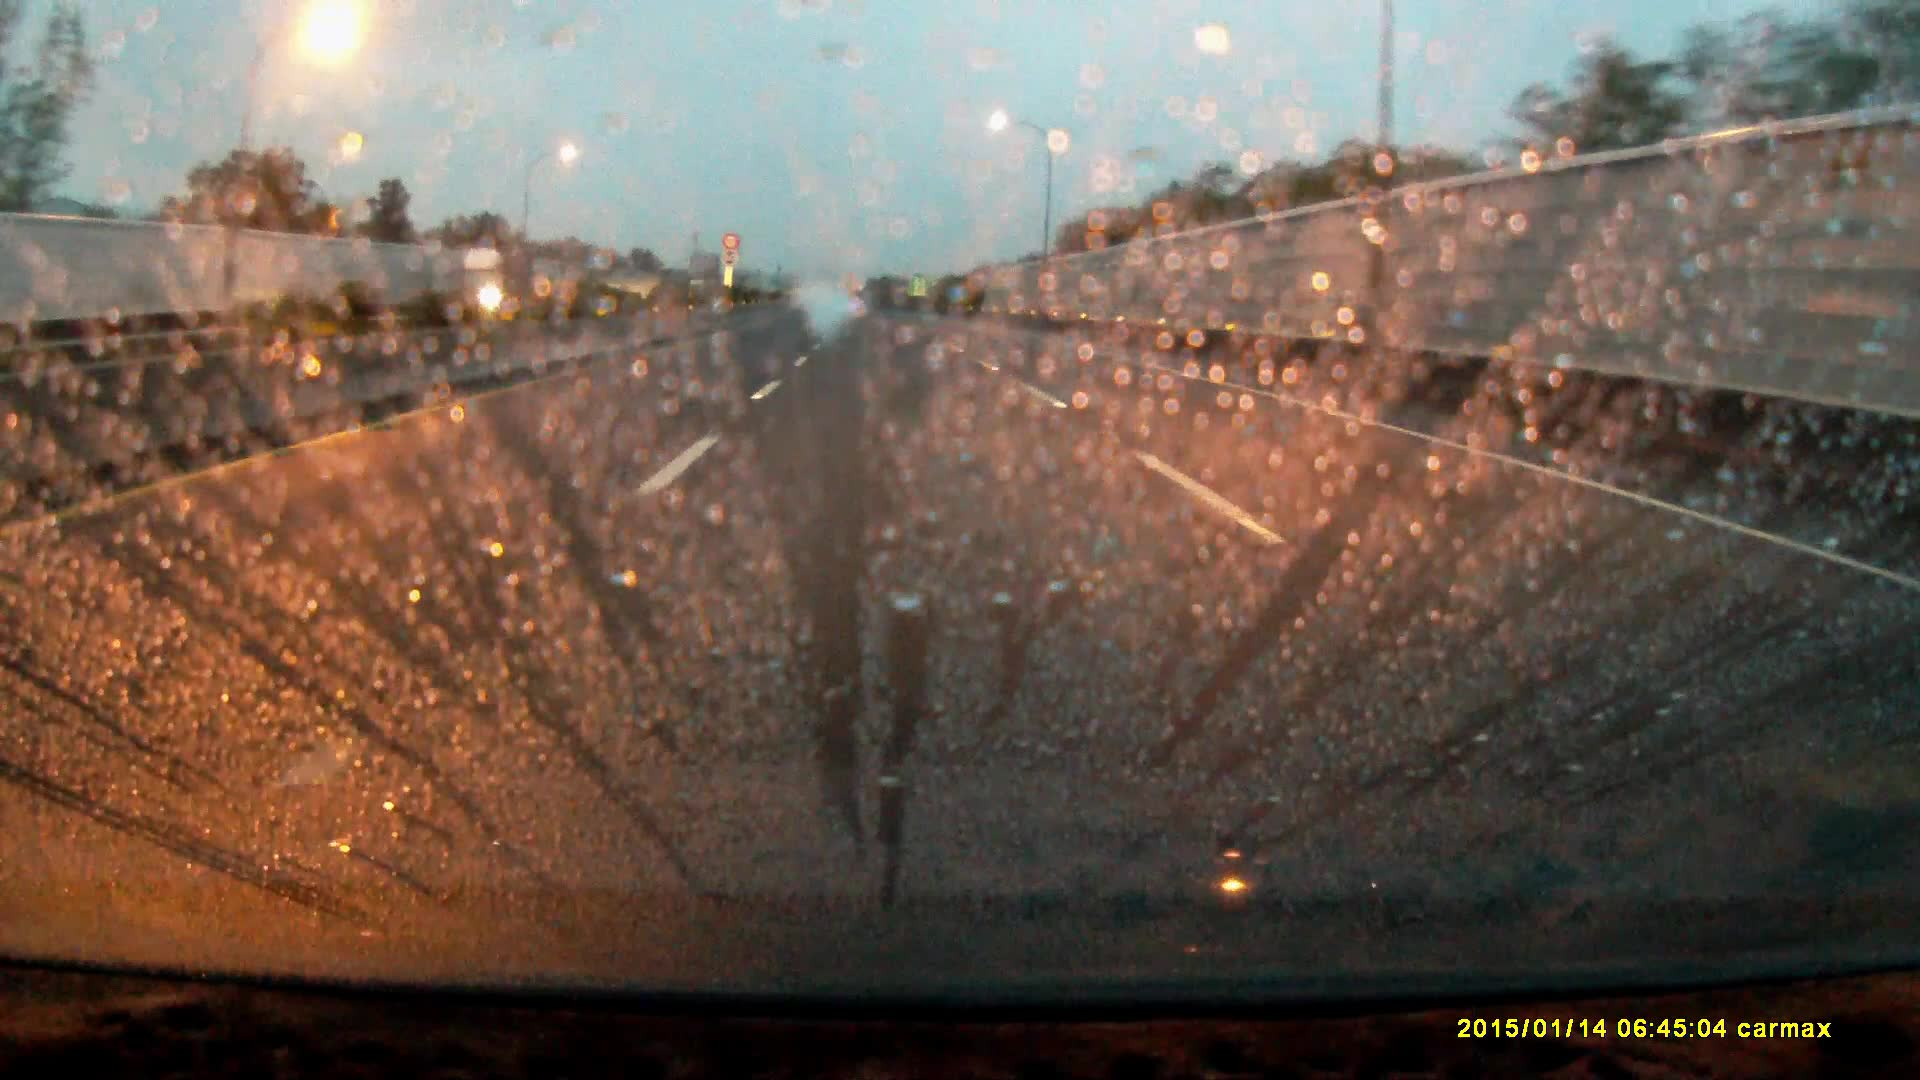vehicle: (458, 249, 538, 313)
